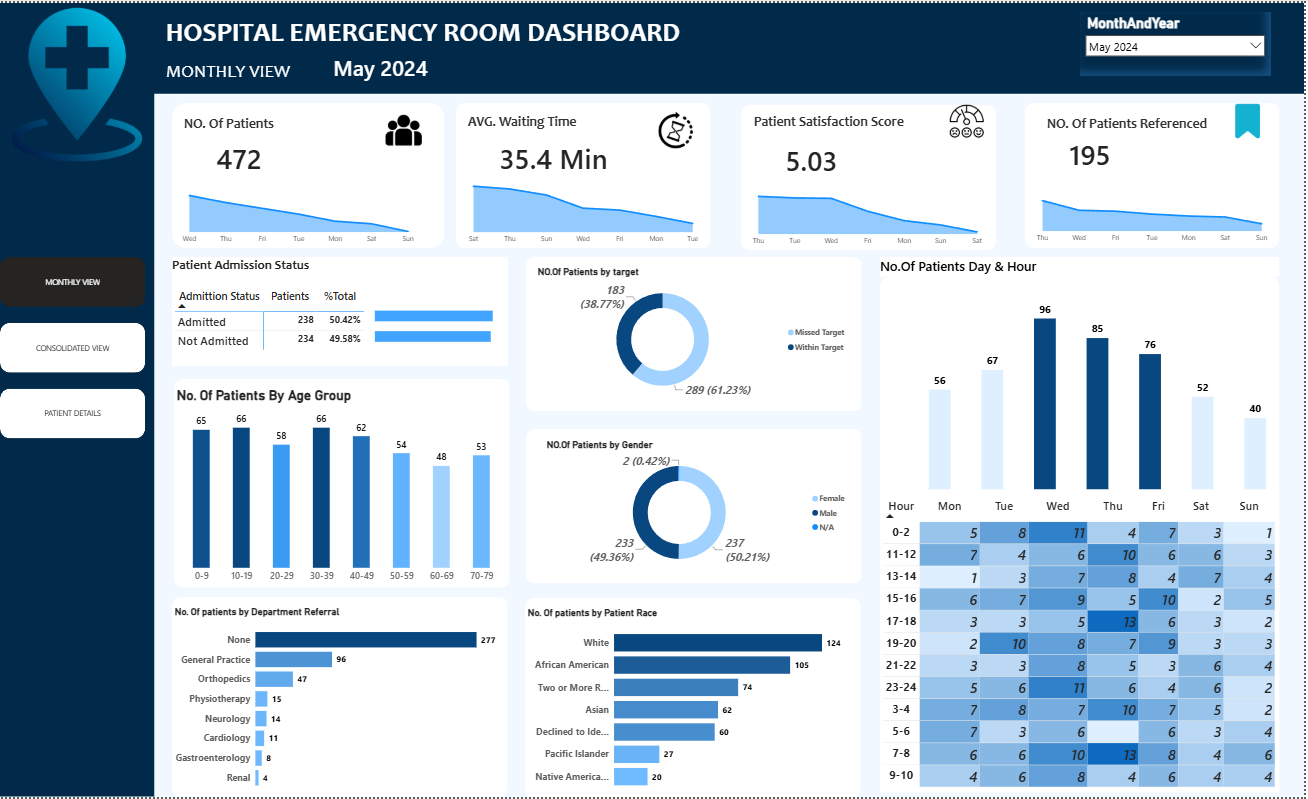

This screenshot's page, from the dashboard's own definition file:
{"tool":"powerbi","page":{"name":"MONTHLY VIEW","canvas":[2300,1400],"ordinal":0},"visuals":[{"type":"shape","box":[304,176,480,256],"z":0},{"type":"shape","title":"No.Of Patients Day & Hour","box":[1552,448,704,944],"z":1000},{"type":"shape","box":[0,-8,272,1408],"z":2000},{"type":"shape","box":[268,0,2032,160],"z":3000},{"type":"textbox","box":[288,16,976,80],"z":4000},{"type":"cardVisual","title":"NO.Of Patients","fields":{"Data":["Hospital ER_Data.NO.Of Patients"]},"box":[353.7,224,198.6,96],"z":4000,"group":"g4"},{"type":"textbox","box":[288,96,256,64],"z":5000},{"type":"slicer","fields":{"Values":["Date.MonthAndYear"]},"box":[1904,16,336,112],"z":6000},{"type":"shape","box":[1808,176,448,256],"z":7000},{"type":"cardVisual","title":"NO.Of Patients","fields":{"Data":["Min(Date.MonthAndYear)"]},"box":[528,64,288,96],"z":8000},{"type":"textbox","box":[320.6,192,215.2,48],"z":8000,"group":"g4"},{"type":"group","id":"g1","title":"Group 1","box":[1840,192,320,112],"z":9000},{"type":"areaChart","fields":{"Y":["Hospital ER_Data.NO.Of Patients"],"Category":["Date.Day Name"]},"box":[304,320,446.9,112],"z":9000,"group":"g4"},{"type":"shape","box":[804.9,176,449.1,256],"z":10000,"group":"g3"},{"type":"group","id":"g2","title":"Group 2","box":[1306,180,450,256],"z":10000},{"type":"group","id":"g3","title":"Group 3","box":[804,176,450,256],"z":11000},{"type":"cardVisual","title":"NO.Of Patients","fields":{"Data":["Hospital ER_Data.AVG WAIT TIME"]},"box":[852,224,256,96],"z":11000,"group":"g3"},{"type":"textbox","box":[820.6,188.1,216.3,48],"z":12000,"group":"g3"},{"type":"group","id":"g4","title":"Group 4","box":[304,192,446.9,240],"z":12000},{"type":"areaChart","fields":{"Y":["Avg(Hospital ER_Data.Patient Waittime)"],"Category":["Date.Day Name"]},"box":[804,304,448,128],"z":13000,"group":"g3"},{"type":"areaChart","fields":{"Y":["Hospital ER_Data.No of Patient Referred"],"Category":["Date.Day Name"]},"box":[1808,320,448,112],"z":13000},{"type":"shape","box":[1306,180,450,256],"z":14000,"group":"g2"},{"type":"shape","title":"Patient Admission Status","box":[304,448,592,192],"z":14000},{"type":"cardVisual","title":"NO.Of Patients","fields":{"Data":["Avg(Hospital ER_Data.Patient Satisfaction Score)"]},"box":[1355.7,228,198.6,96],"z":15000,"group":"g2"},{"type":"pivotTable","fields":{"Rows":["Hospital ER_Data.Admittion Status"],"Values":["Hospital ER_Data.NO.Of Patients","Divide(Hospital ER_Data.NO.Of Patients, ScopedEval(Hospital ER_Data.NO.Of Patients, []))"]},"box":[304,496,352,128],"z":15000},{"type":"textbox","box":[1323,189.2,314.5,48],"z":16000,"group":"g2"},{"type":"clusteredBarChart","fields":{"Category":["Hospital ER_Data.Admittion Status"],"Y":["Hospital ER_Data.NO.Of Patients"]},"box":[656,512,272,112],"z":16000},{"type":"areaChart","fields":{"Y":["Avg(Hospital ER_Data.Patient Satisfaction Score)"],"Category":["Date.Day Name"]},"box":[1306,324,446.9,112],"z":17000,"group":"g2"},{"type":"shape","box":[307.4,663.6,592,368],"z":17000},{"type":"clusteredColumnChart","title":"No. Of Patients By Age Group","fields":{"Y":["Hospital ER_Data.NO.Of Patients"],"Category":["Hospital ER_Data.Decade"]},"box":[307.4,679.6,592,352],"z":18000},{"type":"cardVisual","title":"NO.Of Patients","fields":{"Data":["Hospital ER_Data.No of Patient Referred"]},"box":[1856,224,208,80],"z":19000,"group":"g1"},{"type":"shape","box":[304,1048,592,352],"z":19000},{"type":"textbox","box":[1840,192,320,102.9],"z":20000,"group":"g1"},{"type":"clusteredBarChart","title":"No. Of patients by Department Referral","fields":{"Category":["Hospital ER_Data.Department Referral"],"Y":["Hospital ER_Data.NO.Of Patients"]},"box":[304,1064,576,336],"z":20000},{"type":"shape","box":[925.6,1048.4,592,352],"z":21000},{"type":"clusteredBarChart","title":"No. Of patients by Patient Race","fields":{"Y":["Hospital ER_Data.NO.Of Patients"],"Category":["Hospital ER_Data.Patient Race"]},"box":[925.6,1064.4,576,336],"z":22000},{"type":"shape","box":[928,752,592,272],"z":23000},{"type":"shape","box":[928,448,592,272],"z":24000},{"type":"donutChart","title":"NO.Of Patients by Gender","fields":{"Category":["Hospital ER_Data.Patient Gender"],"Y":["Hospital ER_Data.NO.Of Patients"]},"box":[960,768,544,240],"z":25000},{"type":"donutChart","fields":{"Y":["Hospital ER_Data.NO.Of Patients"],"Category":["Hospital ER_Data.target"]},"box":[944,464,560,240],"z":26000},{"type":"pivotTable","fields":{"Rows":["Hospital ER_Data.WaitTime Interval"],"Columns":["Date.Day"],"Values":["Hospital ER_Data.NO.Of Patients"]},"box":[1552,864,704,528],"z":27000},{"type":"clusteredColumnChart","fields":{"Category":["Date.Day Name"],"Y":["Hospital ER_Data.NO.Of Patients"]},"box":[1632,512,608,352],"z":28000},{"type":"image","box":[0,0,272,288],"z":29000},{"type":"image","box":[672,192,80,64],"z":30000},{"type":"image","box":[1152,192,80,64],"z":31000},{"type":"image","box":[1664,176,80,64],"z":32000},{"type":"image","box":[2160,176,80,64],"z":33000},{"type":"pageNavigator","box":[0,448,256,320],"z":34000}]}

Visuals, with their boxes in screenshot pixels (x1, y1, x2, y2), scaled from the page's 2300x1400 canvas onto the 1308x799 screenshot:
shape: pyautogui.locateOnScreen(173, 100, 446, 247)
"No.Of Patients Day & Hour" shape: pyautogui.locateOnScreen(883, 256, 1283, 794)
shape: pyautogui.locateOnScreen(0, 0, 155, 798)
shape: pyautogui.locateOnScreen(152, 0, 1307, 91)
textbox: pyautogui.locateOnScreen(164, 9, 719, 55)
"NO.Of Patients" cardVisual: pyautogui.locateOnScreen(201, 128, 314, 183)
textbox: pyautogui.locateOnScreen(164, 55, 309, 91)
slicer - Date.MonthAndYear: pyautogui.locateOnScreen(1083, 9, 1274, 73)
shape: pyautogui.locateOnScreen(1028, 100, 1283, 247)
"NO.Of Patients" cardVisual: pyautogui.locateOnScreen(300, 37, 464, 91)
textbox: pyautogui.locateOnScreen(182, 110, 305, 137)
"Group 1" group: pyautogui.locateOnScreen(1046, 110, 1228, 173)
areaChart - Hospital ER_Data.NO.Of Patients x Date.Day Name: pyautogui.locateOnScreen(173, 183, 427, 247)
shape: pyautogui.locateOnScreen(458, 100, 713, 247)
"Group 2" group: pyautogui.locateOnScreen(743, 103, 999, 249)
"Group 3" group: pyautogui.locateOnScreen(457, 100, 713, 247)
"NO.Of Patients" cardVisual: pyautogui.locateOnScreen(485, 128, 630, 183)
textbox: pyautogui.locateOnScreen(467, 107, 590, 135)
"Group 4" group: pyautogui.locateOnScreen(173, 110, 427, 247)
areaChart - Avg(Hospital ER_Data.Patient Waittime) x Date.Day Name: pyautogui.locateOnScreen(457, 173, 712, 247)
areaChart - Hospital ER_Data.No of Patient Referred x Date.Day Name: pyautogui.locateOnScreen(1028, 183, 1283, 247)
shape: pyautogui.locateOnScreen(743, 103, 999, 249)
"Patient Admission Status" shape: pyautogui.locateOnScreen(173, 256, 510, 365)
"NO.Of Patients" cardVisual: pyautogui.locateOnScreen(771, 130, 884, 185)
pivotTable - Hospital ER_Data.Admittion Status x Hospital ER_Data.NO.Of Patients: pyautogui.locateOnScreen(173, 283, 373, 356)
textbox: pyautogui.locateOnScreen(752, 108, 931, 135)
clusteredBarChart - Hospital ER_Data.Admittion Status x Hospital ER_Data.NO.Of Patients: pyautogui.locateOnScreen(373, 292, 528, 356)
areaChart - Avg(Hospital ER_Data.Patient Satisfaction Score) x Date.Day Name: pyautogui.locateOnScreen(743, 185, 997, 249)
shape: pyautogui.locateOnScreen(175, 379, 511, 589)
"No. Of Patients By Age Group" clusteredColumnChart: pyautogui.locateOnScreen(175, 388, 511, 589)
"NO.Of Patients" cardVisual: pyautogui.locateOnScreen(1055, 128, 1174, 173)
shape: pyautogui.locateOnScreen(173, 598, 510, 798)
textbox: pyautogui.locateOnScreen(1046, 110, 1228, 168)
"No. Of patients by Department Referral" clusteredBarChart: pyautogui.locateOnScreen(173, 607, 500, 798)
shape: pyautogui.locateOnScreen(526, 598, 863, 798)
"No. Of patients by Patient Race" clusteredBarChart: pyautogui.locateOnScreen(526, 607, 854, 798)
shape: pyautogui.locateOnScreen(528, 429, 864, 584)
shape: pyautogui.locateOnScreen(528, 256, 864, 411)
"NO.Of Patients by Gender" donutChart: pyautogui.locateOnScreen(546, 438, 855, 575)
donutChart - Hospital ER_Data.NO.Of Patients x Hospital ER_Data.target: pyautogui.locateOnScreen(537, 265, 855, 402)
pivotTable - Hospital ER_Data.WaitTime Interval x Date.Day: pyautogui.locateOnScreen(883, 493, 1283, 794)
clusteredColumnChart - Date.Day Name x Hospital ER_Data.NO.Of Patients: pyautogui.locateOnScreen(928, 292, 1274, 493)
image: pyautogui.locateOnScreen(0, 0, 155, 164)
image: pyautogui.locateOnScreen(382, 110, 428, 146)
image: pyautogui.locateOnScreen(655, 110, 701, 146)
image: pyautogui.locateOnScreen(946, 100, 992, 137)
image: pyautogui.locateOnScreen(1228, 100, 1274, 137)
pageNavigator: pyautogui.locateOnScreen(0, 256, 146, 438)
